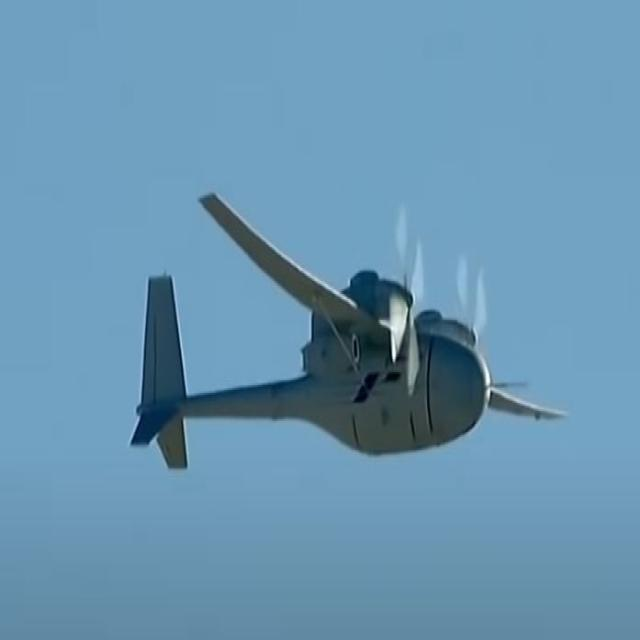iha: (132, 182, 569, 468)
